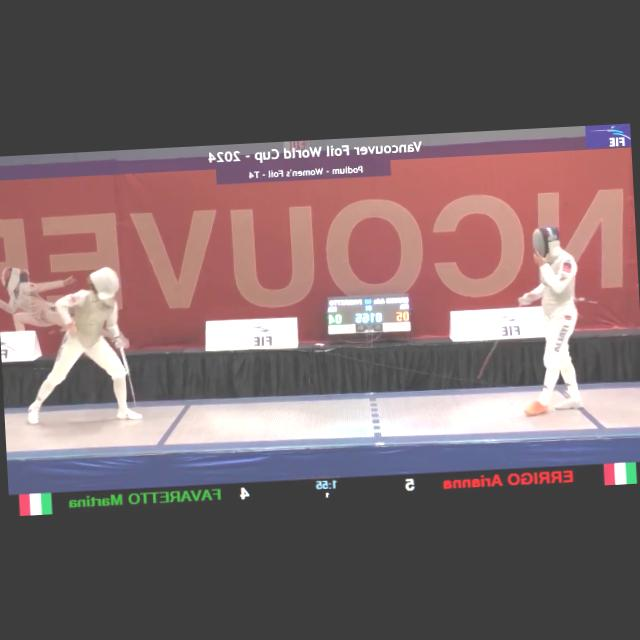blade: (472, 295, 534, 380), (110, 335, 136, 410)
